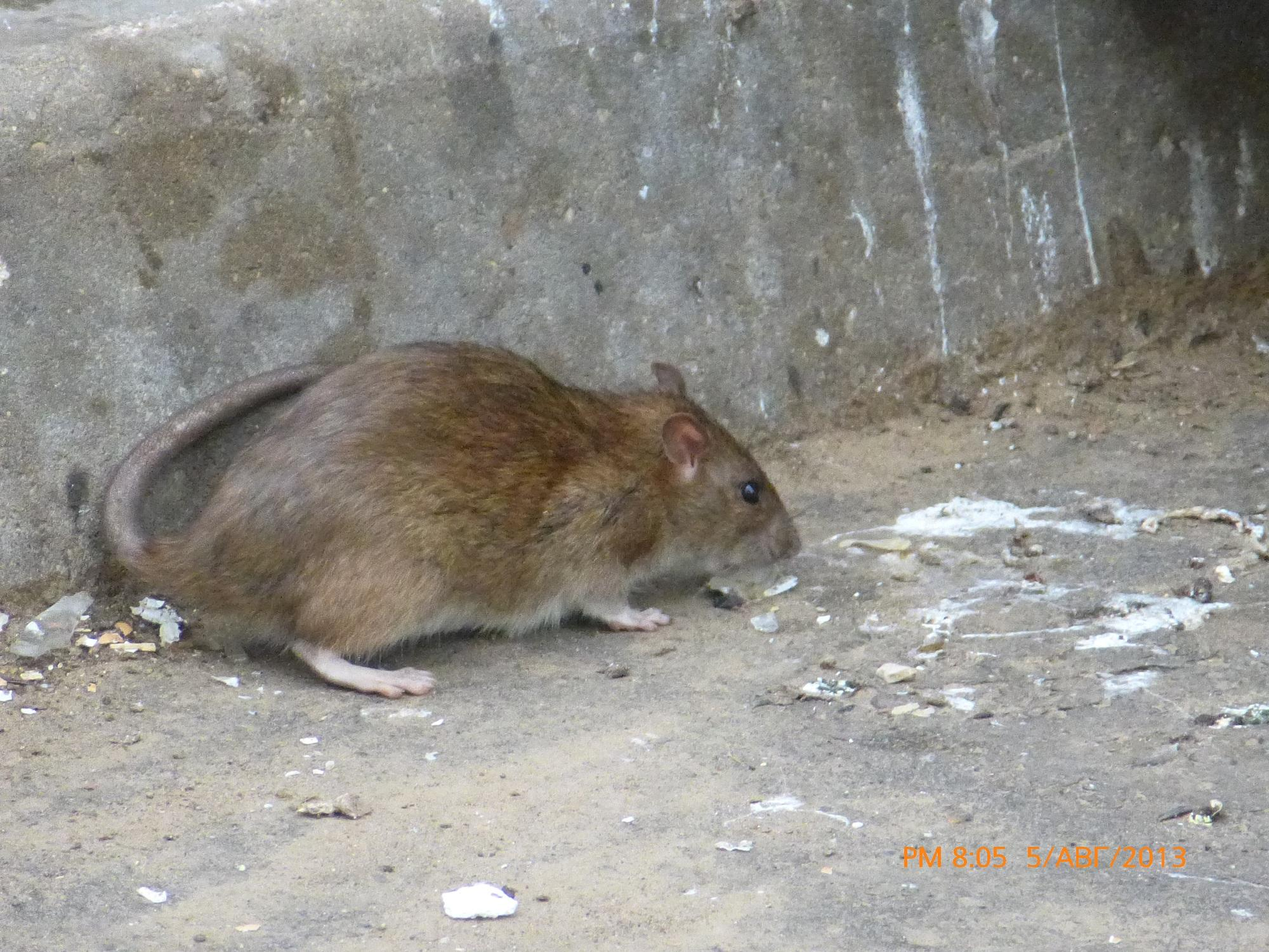rat: (102, 342, 801, 699)
